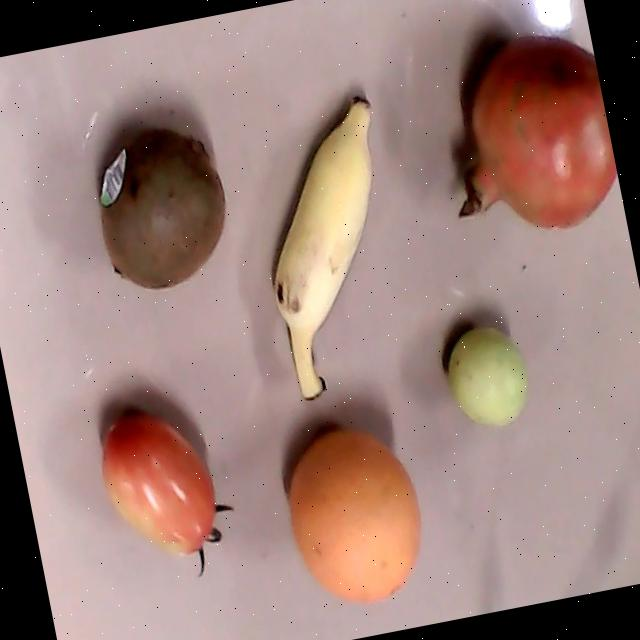kiwi: (97, 129, 224, 289)
lemon: (448, 327, 528, 425)
orange: (287, 428, 421, 605)
pomegranate: (456, 35, 616, 228)
tomato: (99, 415, 233, 576)
